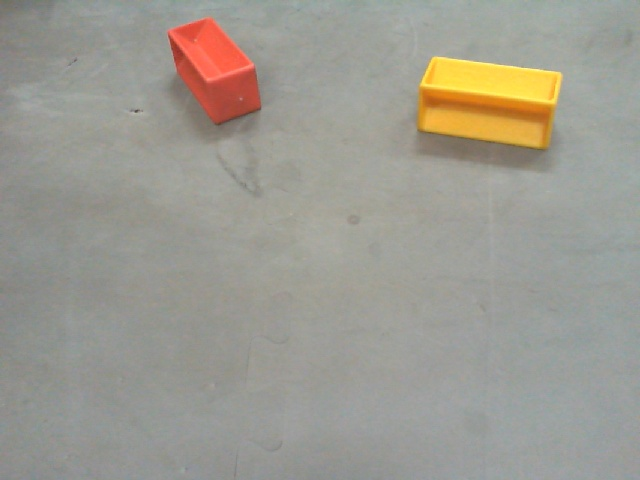RedSample: (164, 18, 264, 126)
YellowSample: (414, 53, 567, 148)
